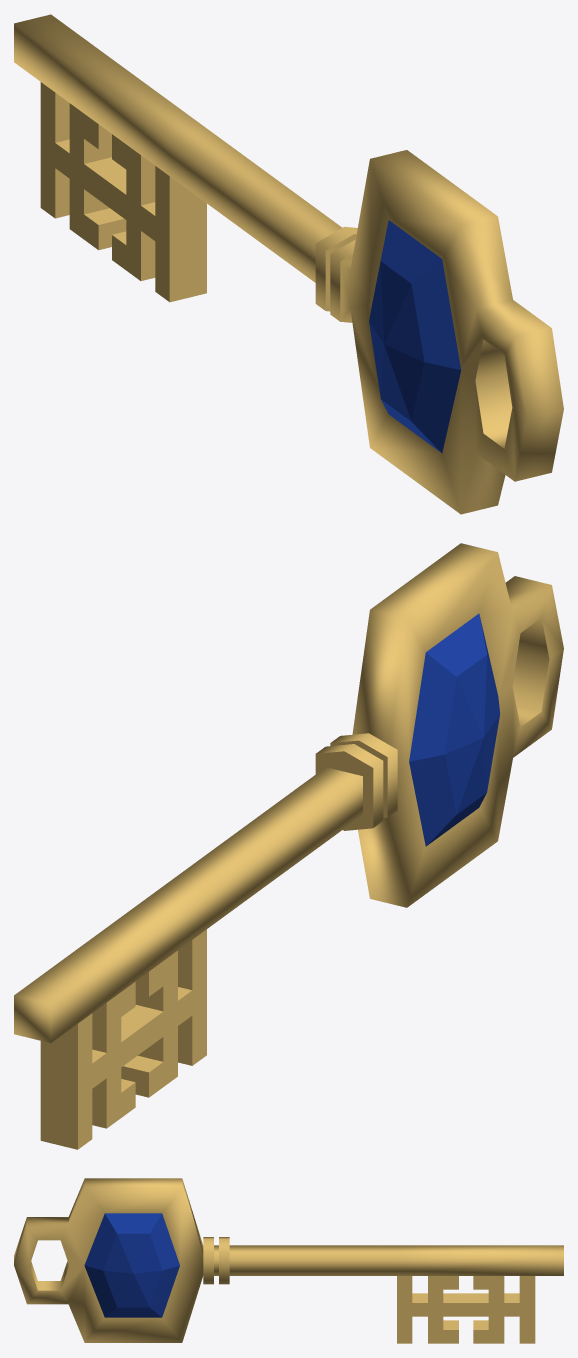
The model's file is gold_key_0.glb.
The picture shows the model from 3 angles, top to bottom: view 1: azimuth 30°, elevation 25°; view 2: azimuth 150°, elevation 25°; view 3: azimuth 270°, elevation 25°; orthographic projection. The views are drawn at different scales.
Parts seen in each view (by area): view 1: gold_key_0; view 2: gold_key_0; view 3: gold_key_0.
Boxes of the visible parts, x1,y1,x2,y2 form: gold_key_0: [14, 14, 563, 514]; gold_key_0: [14, 543, 563, 1149]; gold_key_0: [14, 1178, 563, 1343].
Bounding box in the file's own units: 0.2152 × 0.598 × 1.92.
